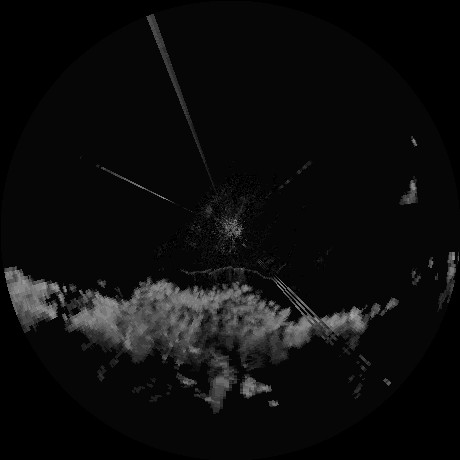frontgust: (178, 266, 271, 279)
